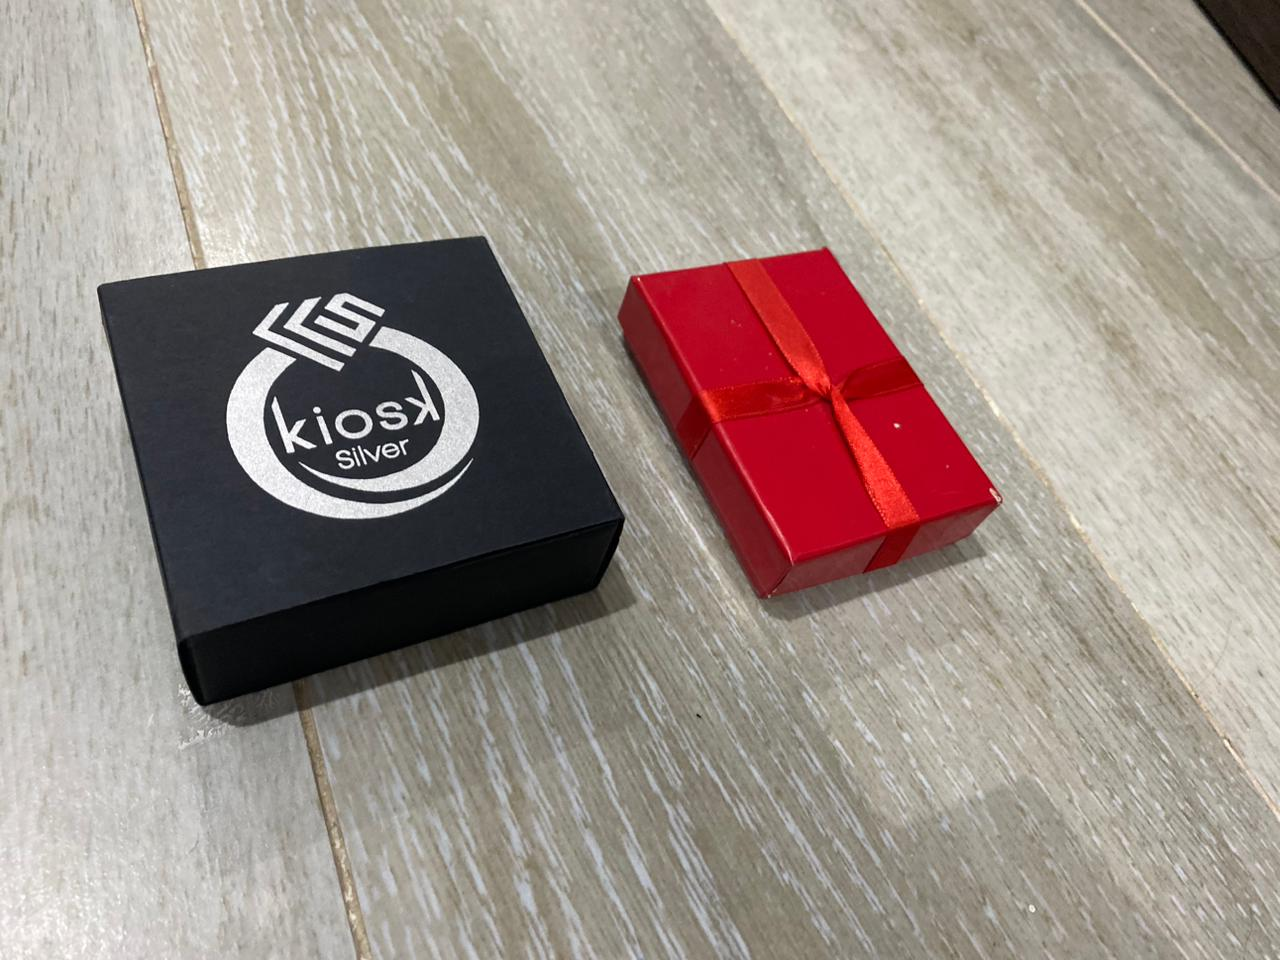Black Box: (616, 244, 1003, 606)
Red Box: (97, 233, 628, 712)
